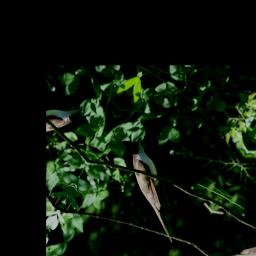Cuckoo: (96, 135, 213, 244)
